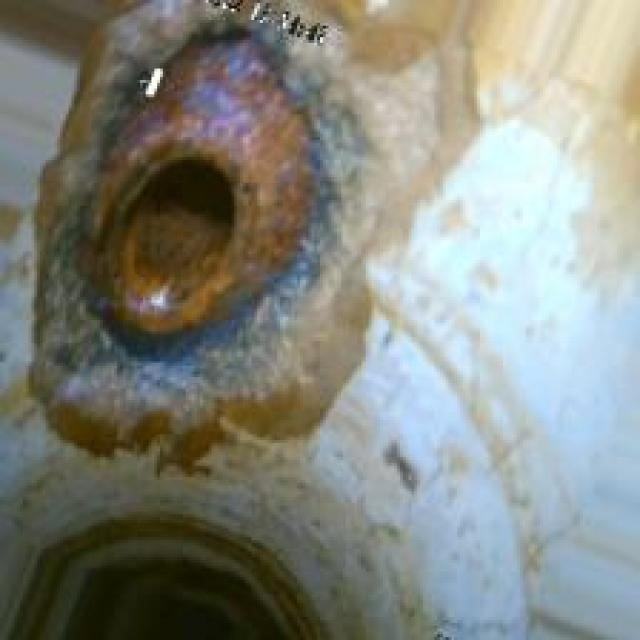ferrule: (63, 49, 340, 368)
